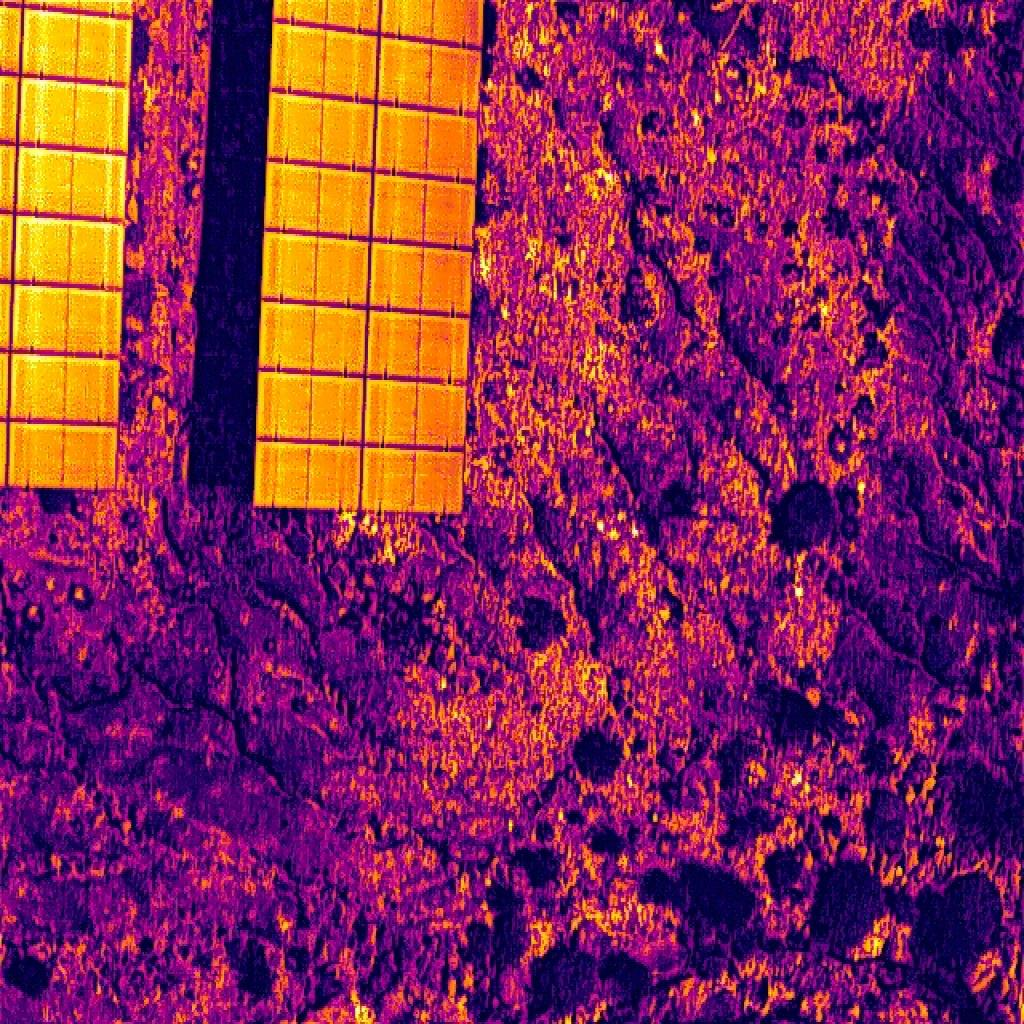panel: (377, 35, 481, 120), (18, 145, 125, 223), (373, 174, 476, 249), (255, 444, 363, 511), (7, 425, 115, 490), (369, 312, 470, 380)
